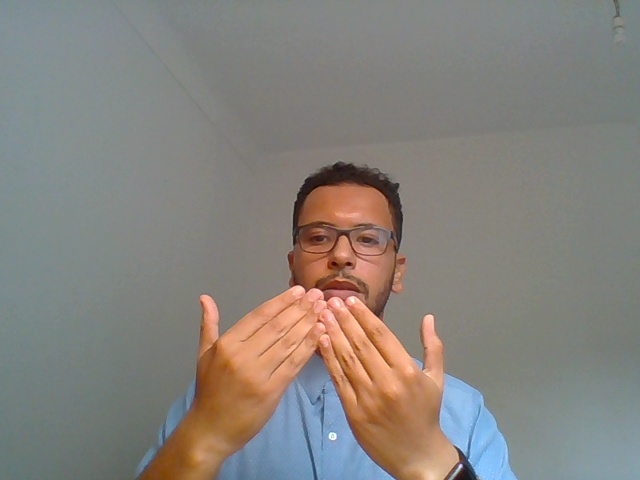thanks: (115, 289, 495, 480)
